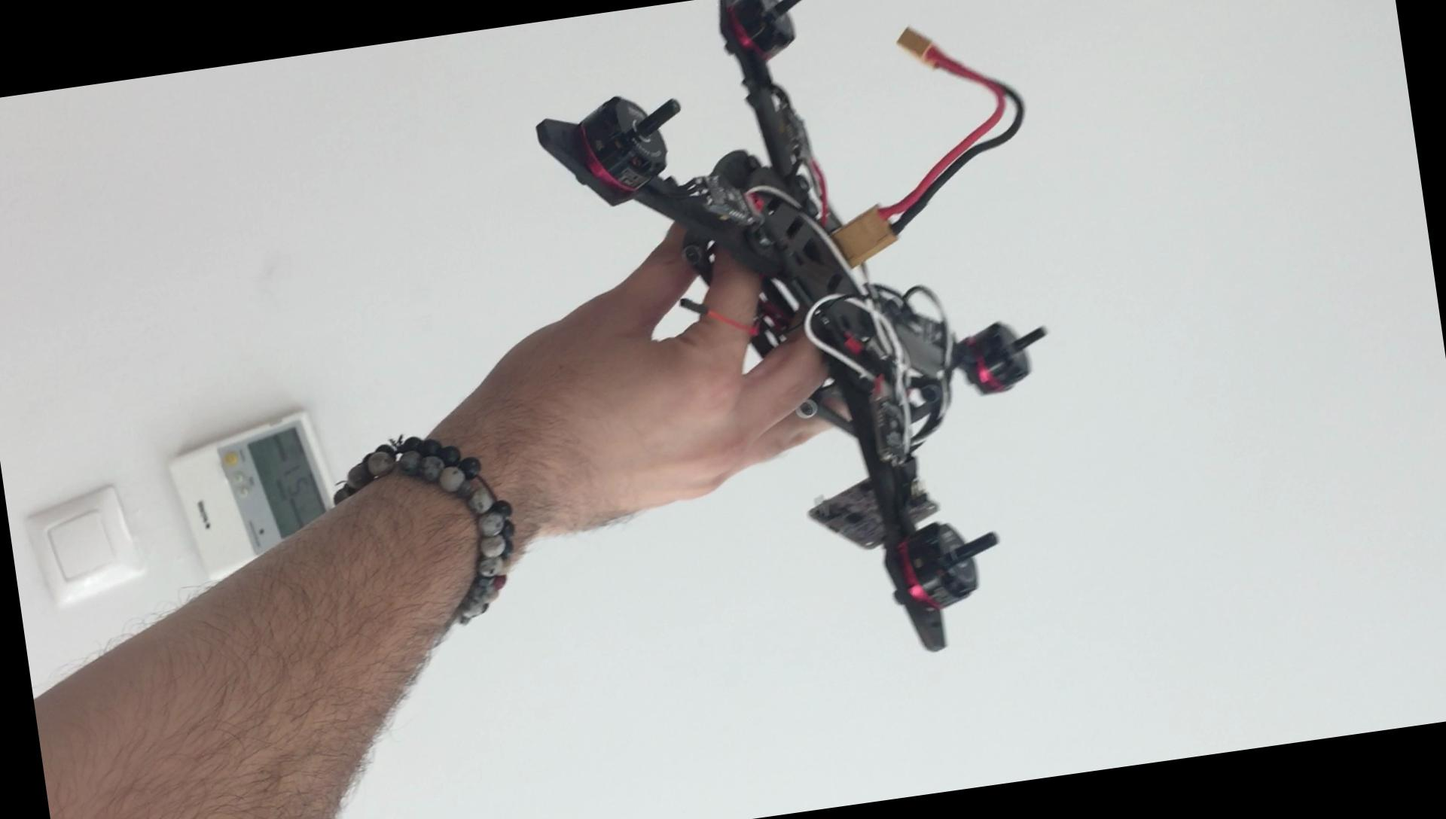drone: (501, 0, 1128, 702)
